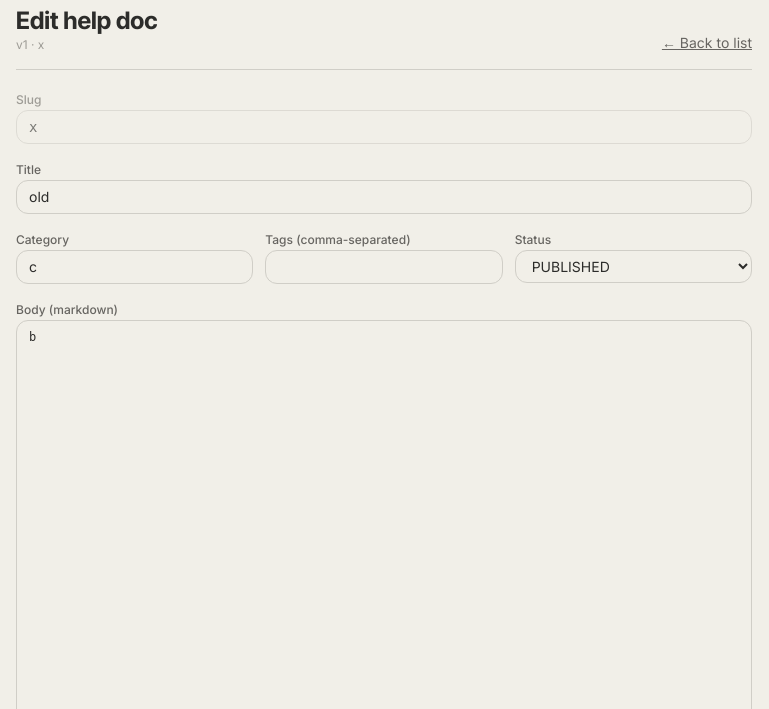
Scenario: AdminHelpDocEditPage — edit › saves successfully when version matches
Replace the text in the field with test id "field-title" with "new". click: (384, 197)
box: left=16, top=180, right=752, bottom=214
(page scrolled)
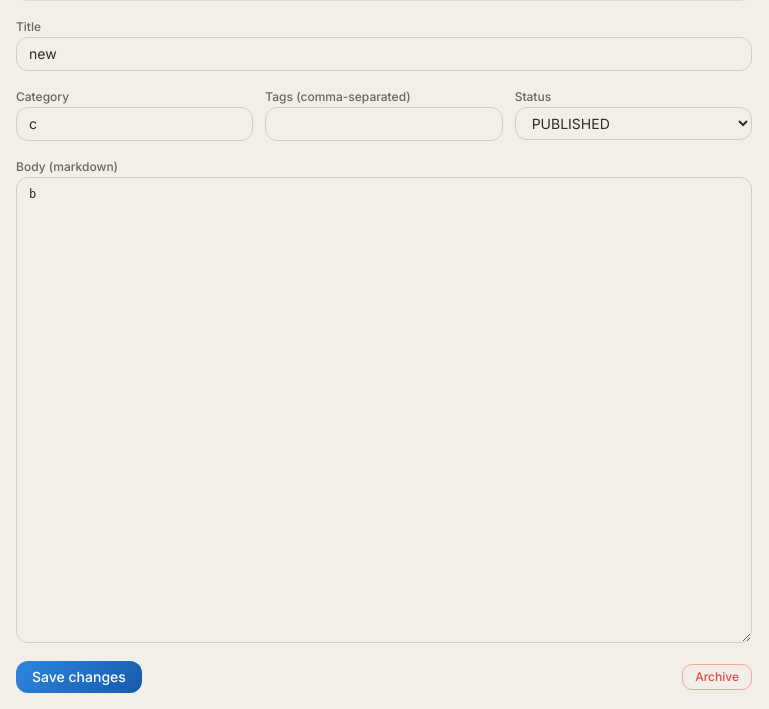
Click the button with test id "save-button". click: (79, 677)
box: left=16, top=661, right=142, bottom=693
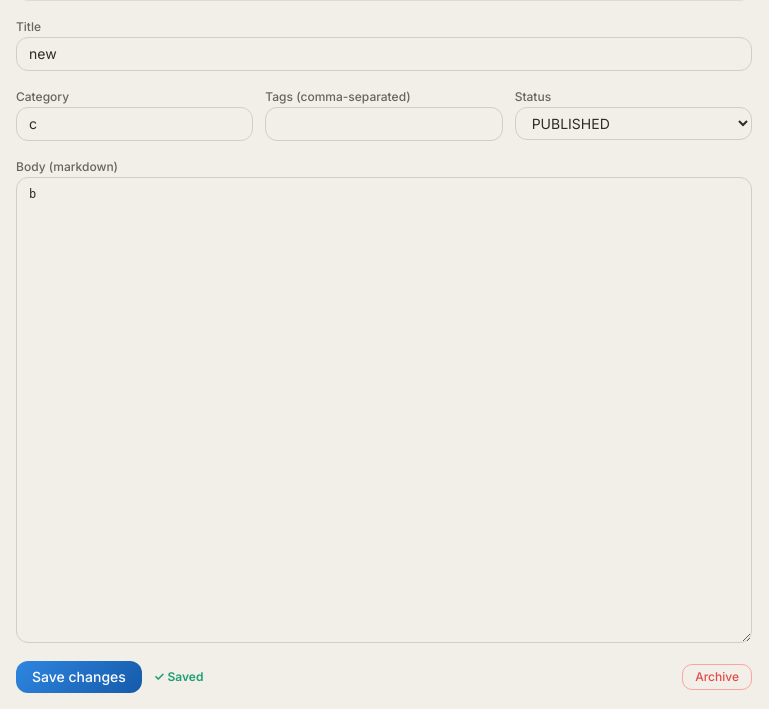
Result: the text "✓ Saved" is shown at left=154, top=669, right=203, bottom=685
